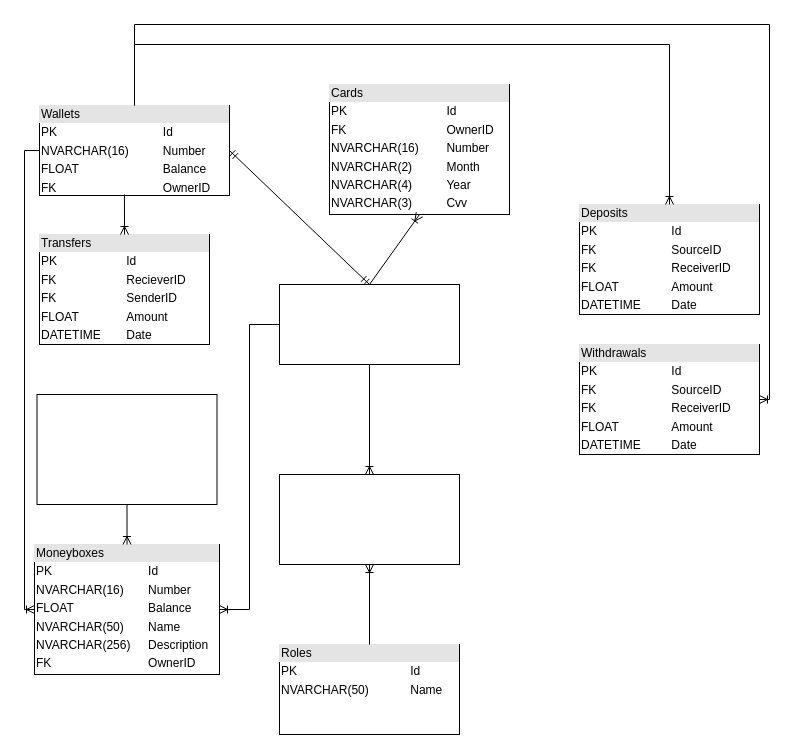
The diagram is 795 pixels wide and 752 high, and some of its shapes have lost their labels. Here are the shapes that lost their labels. From the top down, the box of each, then its label:
(278, 284, 460, 364): Users PK Id NVARCHAR(50) UserName NVARCHAR(50) Email
(36, 394, 217, 504): Donations PK Id FK SenderID FK ReceiverID FLOAT Amount DATETIME Date
(278, 474, 460, 564): UserRoles PK Id FK UserID FK RoleID
